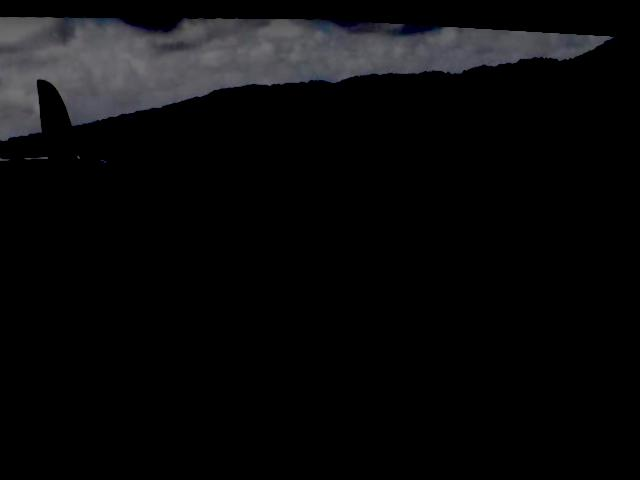iha: (0, 72, 119, 209)
